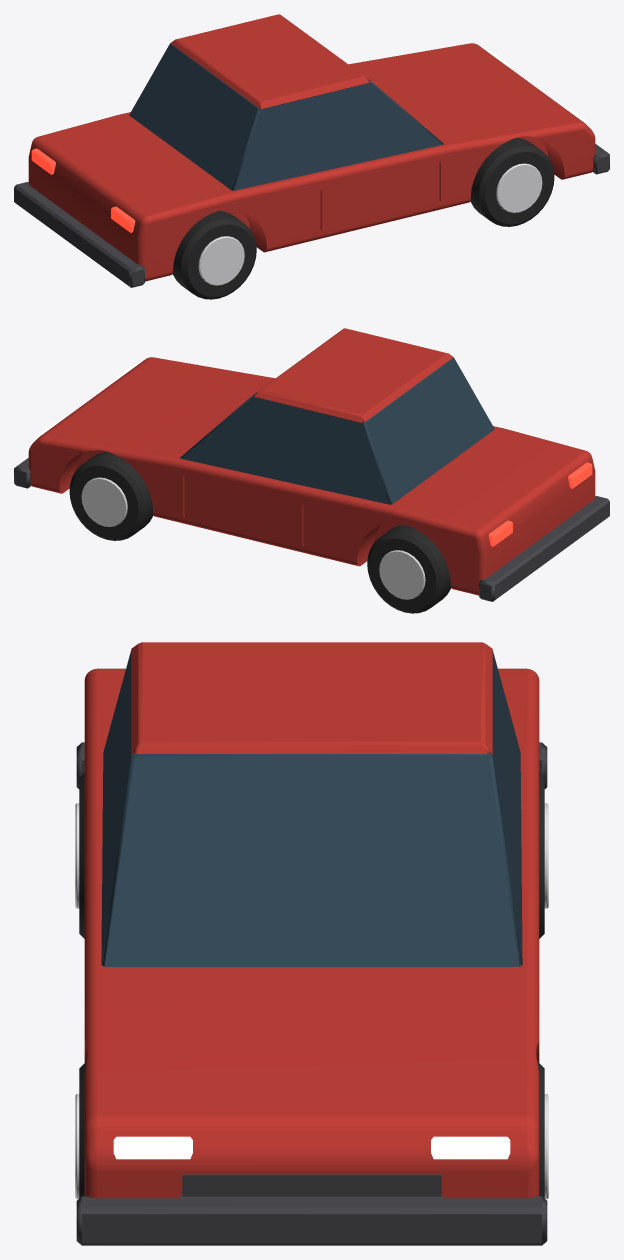
Rendered from car_hardsurface.glb.
The picture shows the model from 3 angles, top to bottom: view 1: azimuth 30°, elevation 25°; view 2: azimuth 150°, elevation 25°; view 3: azimuth 270°, elevation 25°; orthographic projection. The views are drawn at different scales.
Parts seen in each view (by area): view 1: Body_game, Cabin_game, Roof_game, Tire-1-1_game, Tire+1-1_game, BumperR_game, Rim-1-1_game, Rim+1-1_game, BumperF_game; view 2: Body_game, Cabin_game, Roof_game, Tire-1+1_game, Tire+1+1_game, BumperR_game, Rim-1+1_game, Rim+1+1_game, BumperF_game; view 3: Body_game, Cabin_game, Roof_game, BumperF_game, Grille, Headlight+1_game, Headlight-1_game, Tire-1+1_game, Tire-1-1_game, Tire+1+1_game, Tire+1-1_game.
Part boxes in pixels (left/top/right/bottom): Body_game: left=28, top=43, right=595, bottom=281; Cabin_game: left=129, top=43, right=443, bottom=190; Roof_game: left=171, top=14, right=369, bottom=109; Tire-1-1_game: left=172, top=210, right=256, bottom=299; Tire+1-1_game: left=470, top=138, right=554, bottom=226; BumperR_game: left=14, top=182, right=144, bottom=287; Rim-1-1_game: left=198, top=236, right=244, bottom=285; Rim+1-1_game: left=496, top=163, right=542, bottom=212; BumperF_game: left=592, top=144, right=609, bottom=174; Body_game: left=28, top=357, right=595, bottom=595; Cabin_game: left=180, top=357, right=494, bottom=504; Roof_game: left=254, top=328, right=452, bottom=423; Tire-1+1_game: left=367, top=524, right=451, bottom=613; Tire+1+1_game: left=69, top=452, right=153, bottom=540; BumperR_game: left=479, top=496, right=609, bottom=601; Rim-1+1_game: left=379, top=550, right=425, bottom=599; Rim+1+1_game: left=81, top=477, right=127, bottom=526; BumperF_game: left=14, top=458, right=31, bottom=488; Body_game: left=84, top=668, right=539, bottom=1198; Cabin_game: left=101, top=650, right=522, bottom=966; Roof_game: left=131, top=642, right=492, bottom=755; BumperF_game: left=76, top=1196, right=547, bottom=1245; Grille: left=182, top=1174, right=441, bottom=1196; Headlight+1_game: left=431, top=1136, right=510, bottom=1159; Headlight-1_game: left=113, top=1136, right=192, bottom=1159; Tire-1+1_game: left=539, top=773, right=544, bottom=938; Tire-1-1_game: left=79, top=773, right=84, bottom=938; Tire+1+1_game: left=537, top=1061, right=544, bottom=1197; Tire+1-1_game: left=79, top=1061, right=86, bottom=1197.
Bounding box in the file's own units: 4.2 × 1.45 × 1.79.
